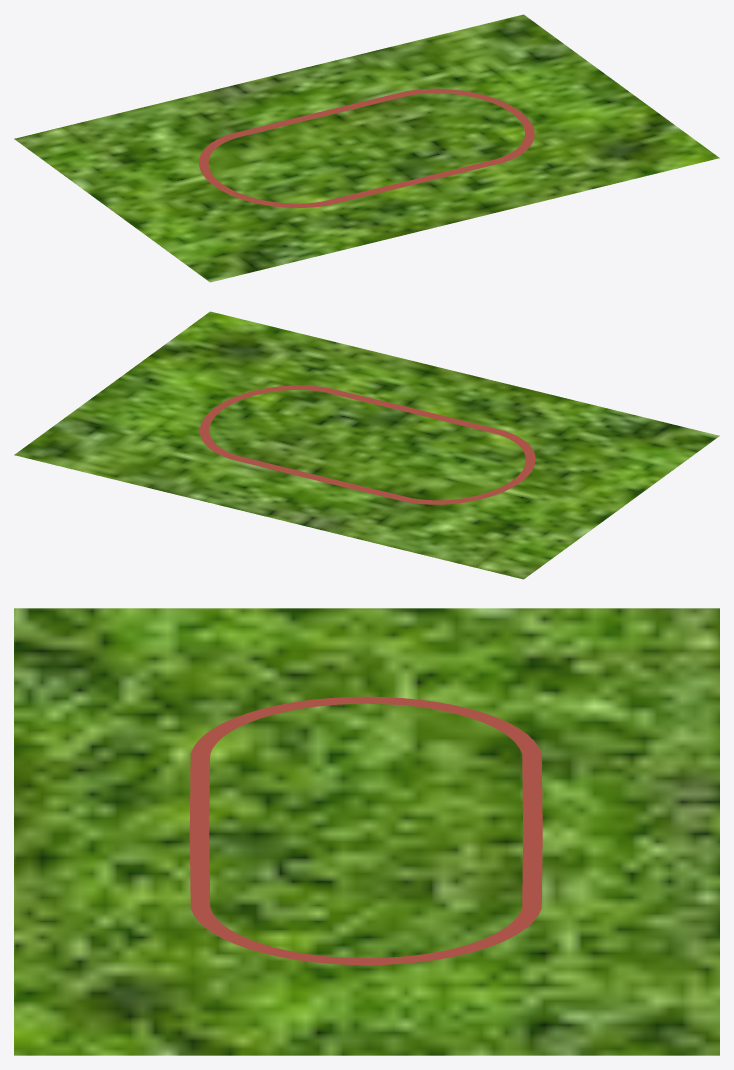
File: terrain.dae
The picture shows the model from 3 angles, top to bottom: view 1: azimuth 30°, elevation 25°; view 2: azimuth 150°, elevation 25°; view 3: azimuth 270°, elevation 25°; orthographic projection. The views are drawn at different scales.
Visible parts, largest first — view 1: Terrain, Piste; view 2: Terrain, Piste; view 3: Terrain, Piste.
Part boxes in pixels (x1,y1,x2,y2): Terrain: (14, 14, 719, 282); Piste: (199, 88, 534, 207); Terrain: (14, 311, 719, 579); Piste: (199, 385, 535, 504); Terrain: (14, 608, 719, 1055); Piste: (189, 696, 542, 965).
Size of the model in its own units: 150 by 100 by 0.105.
2 materials, 2 textured.
